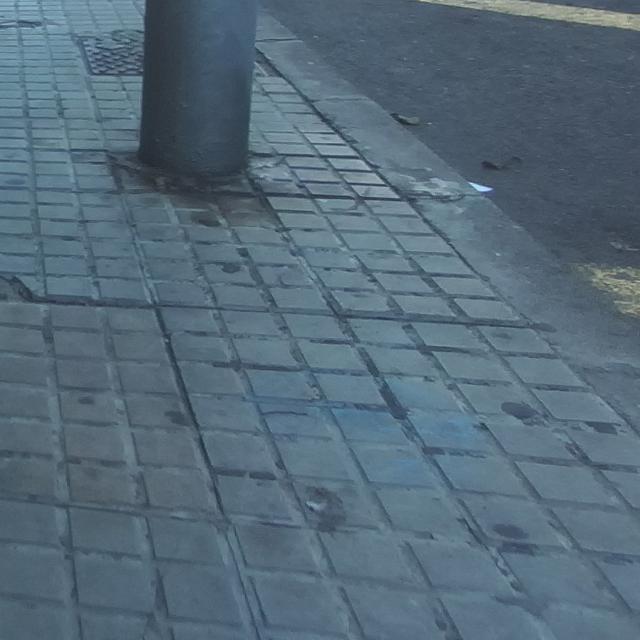calcada_quebrada: (102, 141, 220, 203), (0, 263, 51, 311)
